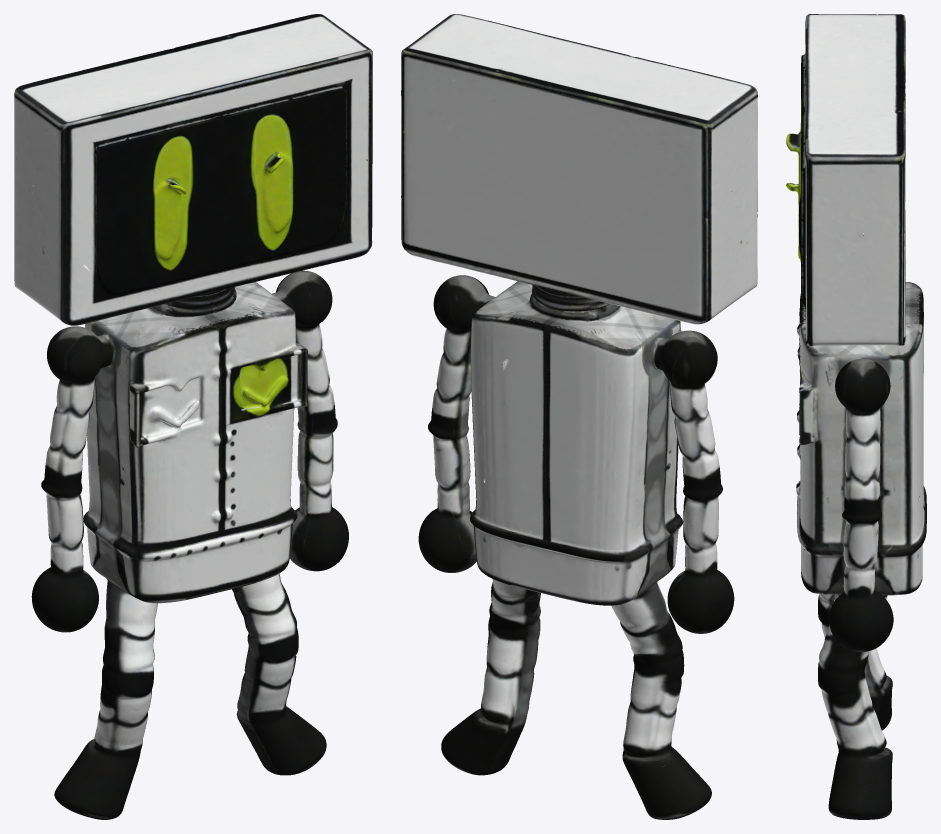
The model's file is techno_buddy.glb.
3 renders of one model, left to right at view 1: azimuth 30°, elevation 25°; view 2: azimuth 150°, elevation 25°; view 3: azimuth 270°, elevation 25°, orthographic. The views are drawn at different scales.
Parts seen in each view (by area): view 1: Mesh1_Mesh1.003; view 2: Mesh1_Mesh1.003; view 3: Mesh1_Mesh1.003.
Part boxes in pixels (<box>): Mesh1_Mesh1.003: <box>14,14,372,819</box>; Mesh1_Mesh1.003: <box>401,14,757,819</box>; Mesh1_Mesh1.003: <box>786,14,926,819</box>.
Size of the model in its own units: 0.9049 by 2 by 0.3702.
Materials: 1 (1 with a texture image).
